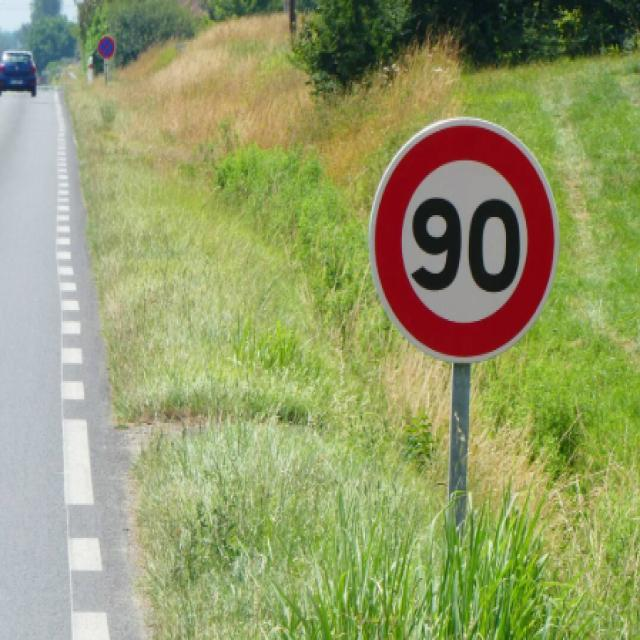speed_90: (372, 116, 560, 363)
